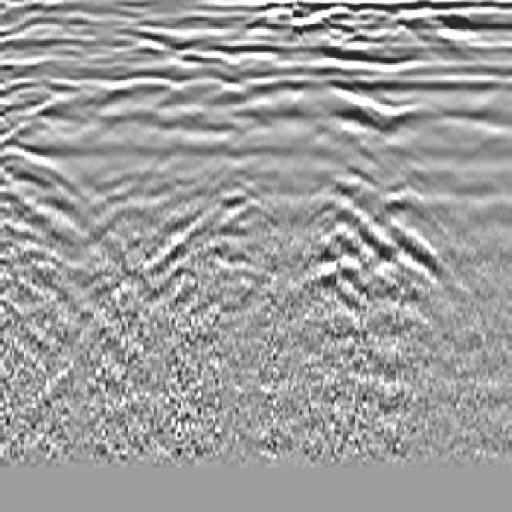metalic: (91, 65, 254, 111)
